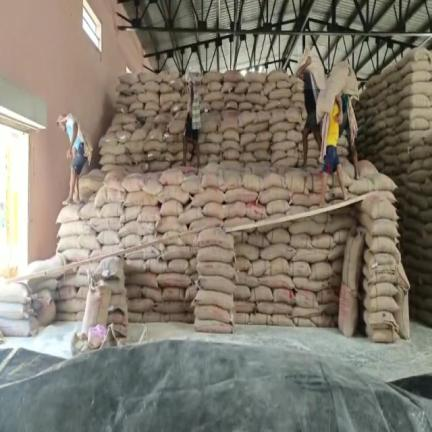Zone-Counting: (297, 54, 325, 157)
